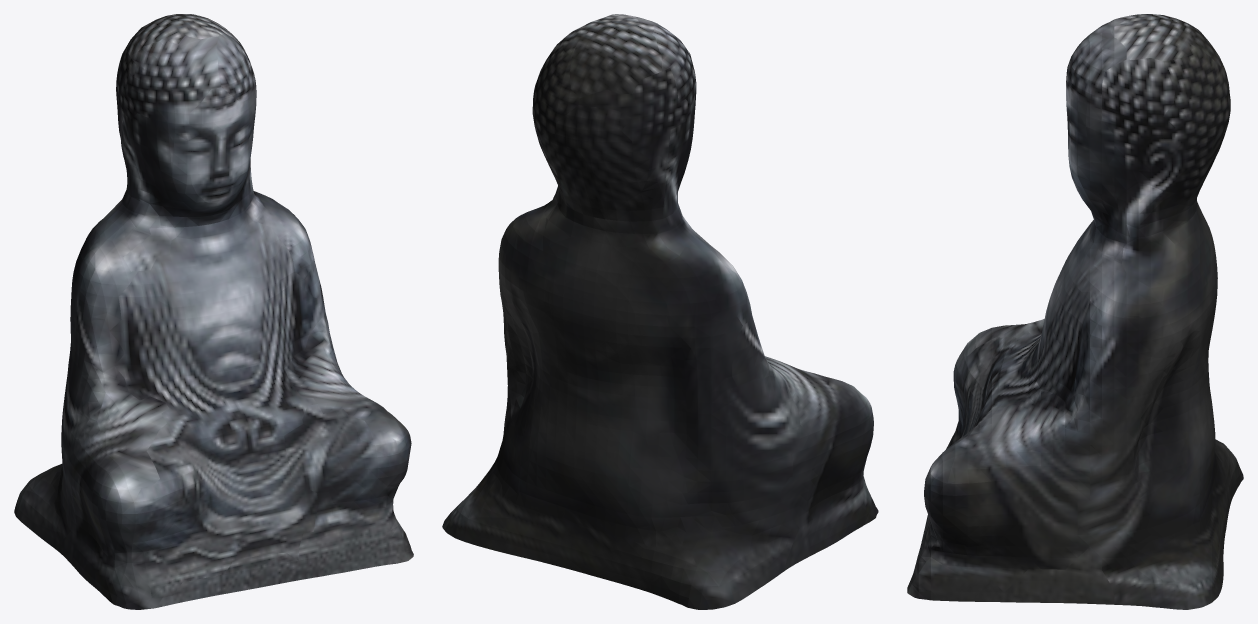
The model's file is scaniverse-20210405-135224.obj.
The picture shows the model from 3 angles, left to right: view 1: azimuth 30°, elevation 25°; view 2: azimuth 150°, elevation 25°; view 3: azimuth 270°, elevation 25°; orthographic projection. The views are drawn at different scales.
Parts seen in each view (by area): view 1: mesh; view 2: mesh; view 3: mesh.
Boxes of the visible parts, box(x1,y1,x2,y2) form: mesh: box(14, 14, 413, 609); mesh: box(442, 14, 878, 609); mesh: box(907, 14, 1243, 609).
Bounding box in the file's own units: 0.2441 × 0.3719 × 0.2203.
Materials: 1 (1 with a texture image).
